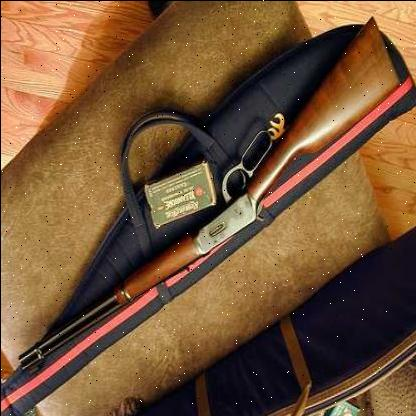rifle: (6, 12, 392, 384)
